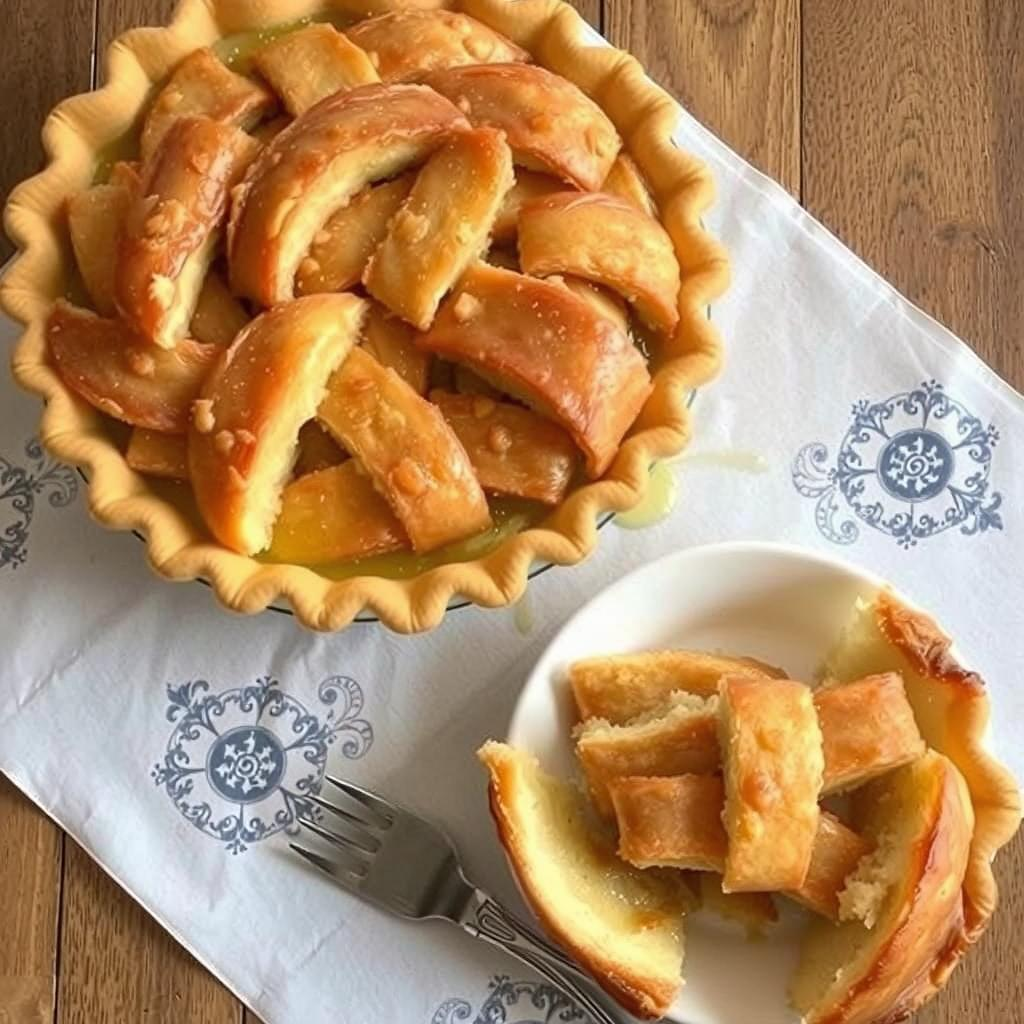pie: (0, 0, 733, 644)
